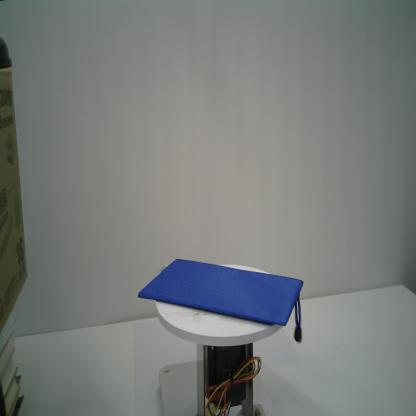Stationery: (136, 256, 305, 345)
